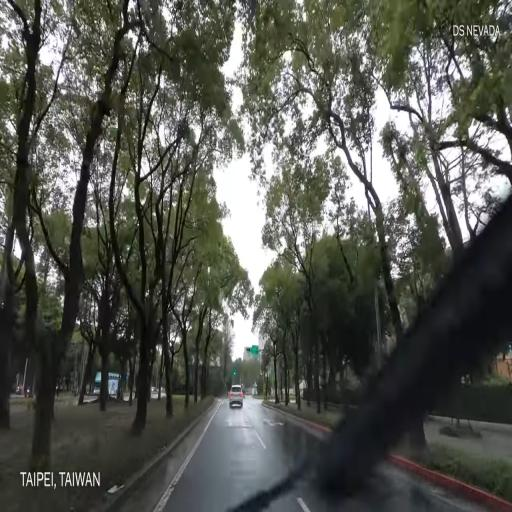Car: (92, 367, 123, 403), (228, 384, 246, 408)
